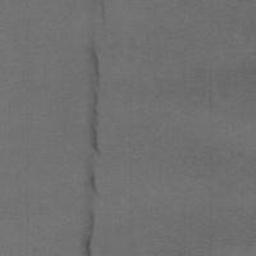Inclusion: (83, 42, 101, 255), (99, 0, 109, 27)
